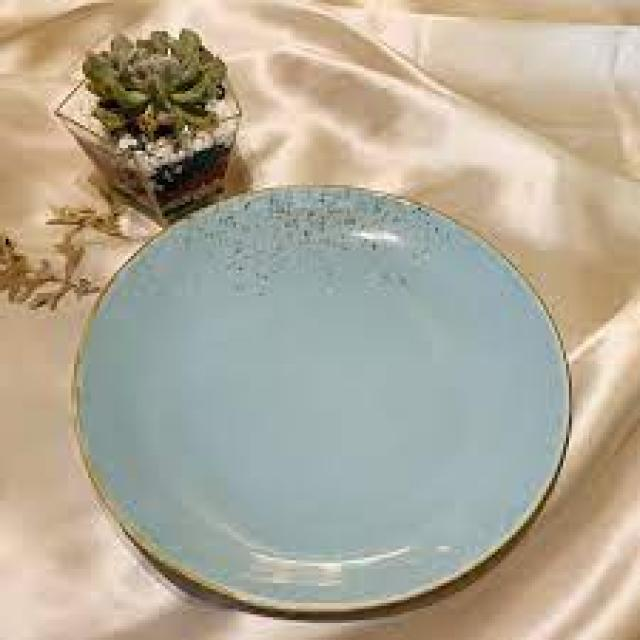Plate: (58, 172, 574, 620)
